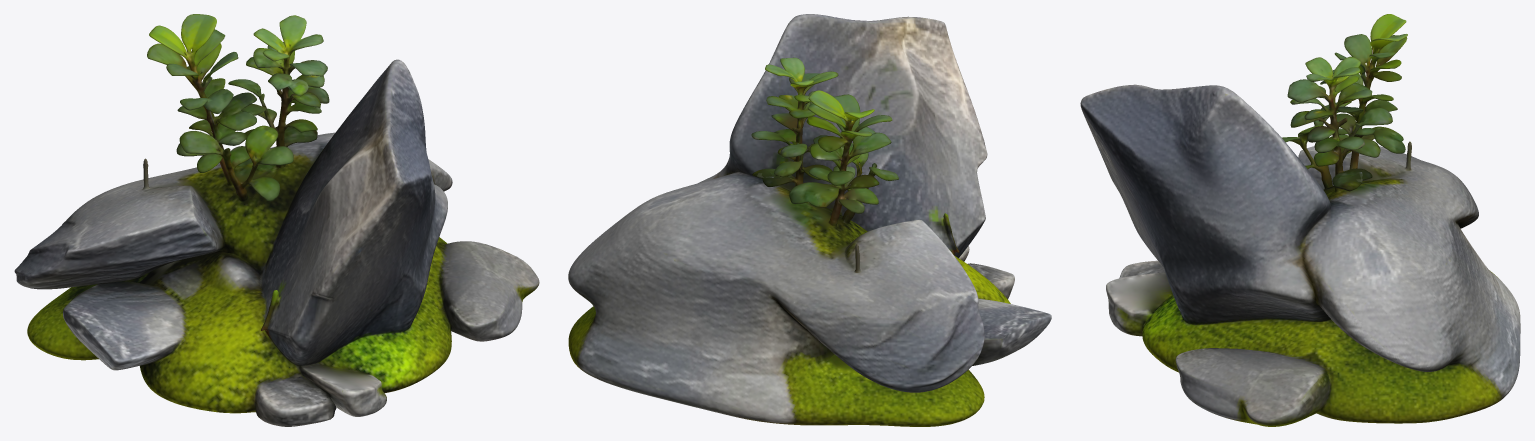
Rendered from rock-garden.glb.
The picture shows the model from 3 angles, left to right: view 1: azimuth 30°, elevation 25°; view 2: azimuth 150°, elevation 25°; view 3: azimuth 270°, elevation 25°; orthographic projection. The views are drawn at different scales.
Visible parts, largest first — view 1: node_0; view 2: node_0; view 3: node_0.
Part boxes in pixels (box(x1,y1,x2,y2)): node_0: box(14, 14, 539, 426); node_0: box(568, 14, 1051, 426); node_0: box(1080, 14, 1520, 426).
Size of the model in its own units: 0.9777 by 0.6272 by 0.8881.
1 material, 1 textured.
